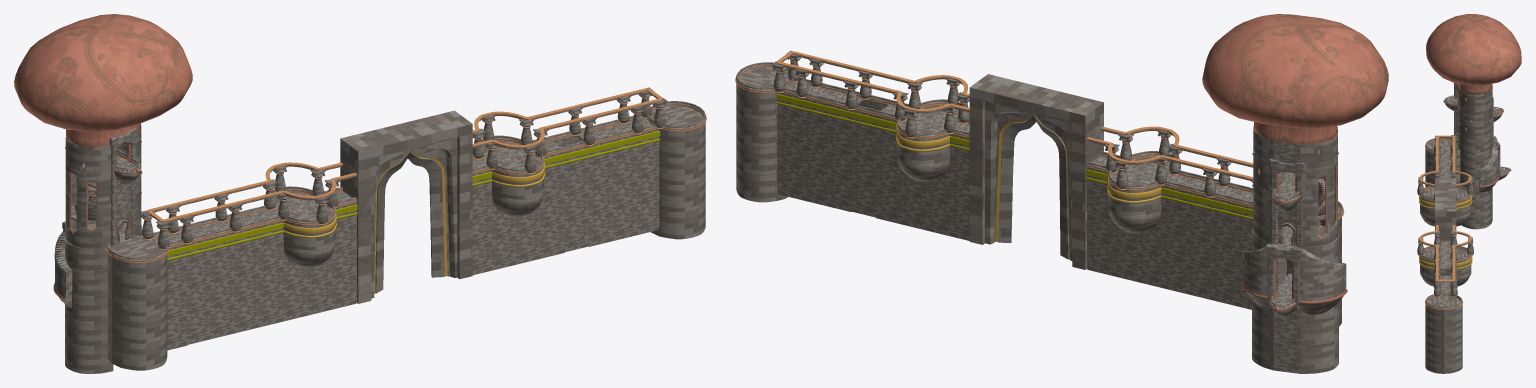
The model's file is tower_wall_southwest_v1.fbx.
The picture shows the model from 3 angles, left to right: view 1: azimuth 30°, elevation 25°; view 2: azimuth 150°, elevation 25°; view 3: azimuth 270°, elevation 25°; orthographic projection. The views are drawn at different scales.
Visible parts, largest first — view 1: dome_golden_top_big:dome_golden_top_big:polySurface1086, gate_frame_3, polySurface933polySurface920polySurface919, polySurface933polySurface920polySurface926, polySurface1007, polySurface933polySurface920polySurface924, tower_windows_bot:tower_windows_bot:polySurface955, polySurface933polySurface920polySurface913, polySurface933polySurface920polySurface915, walls_pillar_square:walls_pillar_square:polySurface933polySu, tower_windows_bot:tower_windows_bot:tower_window_mid_copper2, polySurface933polySurface920polySurface914 (+44 smaller); view 2: dome_golden_top_big:dome_golden_top_big:polySurface1086, gate_frame_3, polySurface933polySurface920polySurface926, spiral_stairs_outer_1:polySurface8, polySurface939 (×2), spiral_stairs_outer_1:polySurface6, polySurface933polySurface920polySurface915, polySurface933polySurface920polySurface924, polySurface933polySurface920polySurface925, polySurface933polySurface920polySurface913, polySurface1007, tower_windows_bot:tower_windows_bot:polySurface955 (+50 smaller); view 3: dome_golden_top_big:dome_golden_top_big:polySurface1086, polySurface933polySurface920polySurface926, gate_frame_3, dome_golden_top_big:dome_golden_top_big:polySurface933polySu (×3), spiral_stairs_outer_1:polySurface6, dome_golden_top_big:polySurface1007, dome_golden_top_big:polySurface1087, dome_golden_top_big:dome_golden_top_big:polySurface1007, polySurface933polySurface920polySurface919, polySurface933polySurface920polySurface923, polySurface933polySurface920polySurface916, polySurface939 (×2) (+16 smaller).
Part boxes in pixels (bbox=[...]): dome_golden_top_big:dome_golden_top_big:polySurface1086: bbox=[14, 14, 192, 146]; gate_frame_3: bbox=[340, 110, 472, 303]; polySurface933polySurface920polySurface919: bbox=[108, 236, 167, 370]; polySurface933polySurface920polySurface926: bbox=[651, 123, 705, 239]; polySurface1007: bbox=[65, 136, 111, 172]; polySurface933polySurface920polySurface924: bbox=[65, 340, 113, 373]; tower_windows_bot:tower_windows_bot:polySurface955: bbox=[65, 214, 111, 248]; polySurface933polySurface920polySurface913: bbox=[65, 236, 107, 273]; polySurface933polySurface920polySurface915: bbox=[65, 316, 107, 349]; walls_pillar_square:walls_pillar_square:polySurface933polySu: bbox=[65, 296, 107, 324]; tower_windows_bot:tower_windows_bot:tower_window_mid_copper2: bbox=[65, 179, 111, 222]; polySurface933polySurface920polySurface914: bbox=[283, 217, 335, 250]; dome_golden_top_big:dome_golden_top_big:polySurface1086: bbox=[1202, 14, 1388, 144]; gate_frame_3: bbox=[969, 74, 1103, 269]; polySurface933polySurface920polySurface926: bbox=[736, 84, 787, 202]; spiral_stairs_outer_1:polySurface8: bbox=[1297, 247, 1346, 314]; polySurface939 (×2): bbox=[897, 153, 1160, 233]; spiral_stairs_outer_1:polySurface6: bbox=[1242, 246, 1277, 308]; polySurface933polySurface920polySurface915: bbox=[1300, 314, 1338, 349]; polySurface933polySurface920polySurface924: bbox=[1300, 339, 1338, 373]; polySurface933polySurface920polySurface925: bbox=[1108, 182, 1161, 215]; polySurface933polySurface920polySurface913: bbox=[897, 130, 949, 164]; polySurface1007: bbox=[1300, 131, 1337, 169]; tower_windows_bot:tower_windows_bot:polySurface955: bbox=[1302, 210, 1337, 246]; dome_golden_top_big:dome_golden_top_big:polySurface1086: bbox=[1426, 14, 1521, 94]; polySurface933polySurface920polySurface926: bbox=[1425, 304, 1462, 373]; gate_frame_3: bbox=[1435, 178, 1456, 275]; dome_golden_top_big:dome_golden_top_big:polySurface933polySu (×3): bbox=[1459, 134, 1492, 185]; spiral_stairs_outer_1:polySurface6: bbox=[1479, 145, 1498, 192]; dome_golden_top_big:polySurface1007: bbox=[1459, 87, 1492, 109]; dome_golden_top_big:polySurface1087: bbox=[1459, 118, 1492, 139]; dome_golden_top_big:dome_golden_top_big:polySurface1007: bbox=[1459, 104, 1491, 124]; polySurface933polySurface920polySurface919: bbox=[1425, 140, 1460, 187]; polySurface933polySurface920polySurface923: bbox=[1461, 206, 1492, 229]; polySurface933polySurface920polySurface916: bbox=[1471, 191, 1492, 214]; polySurface939 (×2): bbox=[1456, 211, 1471, 286].
Bounding box in the file's own units: 135 × 65.23 × 31.55.
